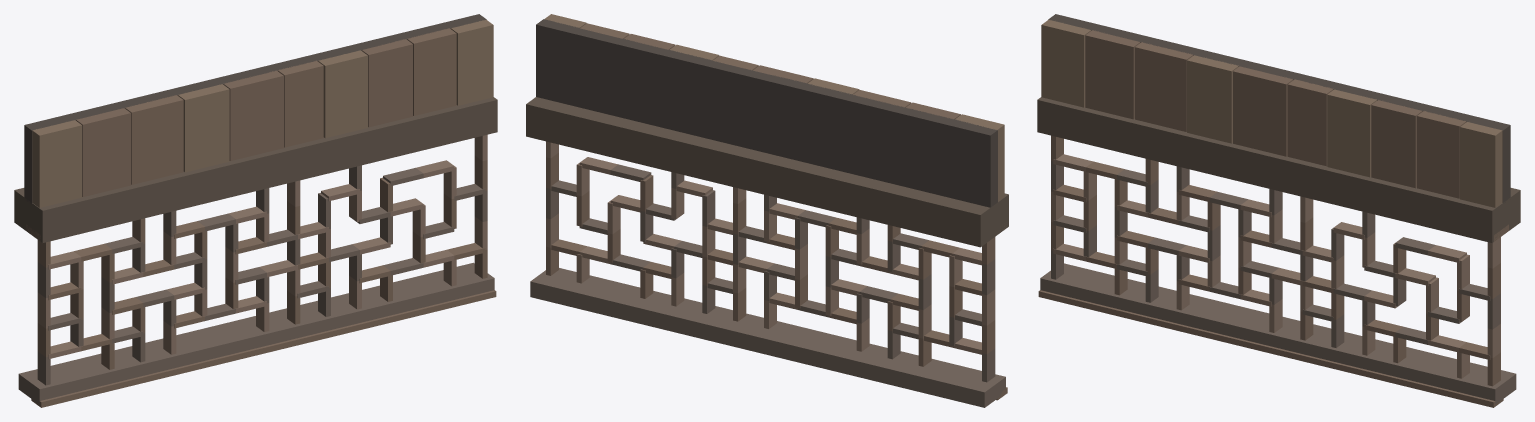
The model's file is pudong-xie-shops-hongxi-lane-three-transom-lod.glb.
3 views of the same model, side by side, from view 1: azimuth 30°, elevation 25°; view 2: azimuth 150°, elevation 25°; view 3: azimuth 330°, elevation 25° (orthographic).
Parts seen in each view (by area): view 1: 谢氏商铺洪西街二弄3号门上透空回纹木格; view 2: 谢氏商铺洪西街二弄3号门上透空回纹木格; view 3: 谢氏商铺洪西街二弄3号门上透空回纹木格.
Boxes of the visible parts, x1,y1,x2,y2 form: 谢氏商铺洪西街二弄3号门上透空回纹木格: [14, 14, 497, 407]; 谢氏商铺洪西街二弄3号门上透空回纹木格: [526, 14, 1008, 407]; 谢氏商铺洪西街二弄3号门上透空回纹木格: [1037, 14, 1520, 407].
Size of the model in its own units: 1 by 0.568 by 0.108.
